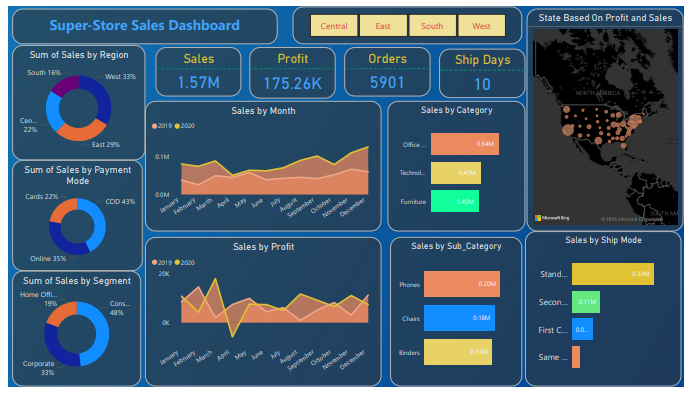

The dashboard page shown, as its layout file describes it:
{"tool":"powerbi","page":{"name":"Dashboard","canvas":[1280,720],"ordinal":0},"visuals":[{"type":"clusteredBarChart","title":"Sales by Category","fields":{"Category":["SuperStore_Sales_Dataset.Category"],"Y":["Sum(SuperStore_Sales_Dataset.Sales)"]},"box":[718.6,178.6,261.4,247.1],"z":0},{"type":"clusteredBarChart","title":"Sales by Sub_Category","fields":{"Category":["SuperStore_Sales_Dataset.Sub-Category"],"Y":["Sum(SuperStore_Sales_Dataset.Sales)"]},"box":[724.3,437.1,250,282.9],"z":1000},{"type":"clusteredBarChart","title":"Sales by Ship Mode","fields":{"Category":["SuperStore_Sales_Dataset.Ship Mode"],"Y":["Sum(SuperStore_Sales_Dataset.Sales)"]},"box":[980,425.7,295.7,294.3],"z":2000},{"type":"areaChart","title":"Sales by Month","fields":{"Y":["Sum(SuperStore_Sales_Dataset.Sales)"],"Category":["SuperStore_Sales_Dataset.Order Date.Variation.Date Hierarchy.Month"],"Series":["SuperStore_Sales_Dataset.Order Date.Variation.Date Hierarchy.Year"]},"box":[258.6,178.6,448.6,247.1],"z":3000},{"type":"donutChart","fields":{"Category":["SuperStore_Sales_Dataset.Segment"],"Y":["Sum(SuperStore_Sales_Dataset.Sales)"]},"box":[7.1,501.4,244.3,218.6],"z":4000},{"type":"donutChart","fields":{"Category":["SuperStore_Sales_Dataset.Region"],"Y":["Sum(SuperStore_Sales_Dataset.Sales)"]},"box":[7.1,72.9,251.4,218.6],"z":5000},{"type":"donutChart","fields":{"Category":["SuperStore_Sales_Dataset.Payment Mode","SuperStore_Sales_Dataset.Region"],"Y":["Sum(SuperStore_Sales_Dataset.Sales)"]},"box":[7.1,291.4,247.1,210],"z":6000},{"type":"areaChart","title":"Sales by Profit","fields":{"Category":["SuperStore_Sales_Dataset.Order Date.Variation.Date Hierarchy.Month"],"Series":["SuperStore_Sales_Dataset.Order Date.Variation.Date Hierarchy.Year"],"Y":["Sum(SuperStore_Sales_Dataset.Profit)"]},"box":[258.6,437.1,448.6,282.9],"z":7000},{"type":"slicer","fields":{"Values":["SuperStore_Sales_Dataset.Region"]},"box":[538.6,0,435.7,71.4],"z":8000},{"type":"card","title":"Sales","fields":{"Values":["Sum(SuperStore_Sales_Dataset.Sales)"]},"box":[278.6,77.1,162.9,92.9],"z":9000},{"type":"card","title":"Profit","fields":{"Values":["Sum(SuperStore_Sales_Dataset.Profit)"]},"box":[457.1,77.1,162.9,97.1],"z":10000},{"type":"card","title":"Orders","fields":{"Values":["CountNonNull(SuperStore_Sales_Dataset.Order ID)"]},"box":[637.1,77.1,162.9,92.9],"z":11000},{"type":"card","title":"Ship Days","fields":{"Values":["Avg(SuperStore_Sales_Dataset.Waiting Days)"]},"box":[817.1,80,162.9,92.9],"z":12000},{"type":"textbox","box":[7.1,4.3,502.9,67.1],"z":13000},{"type":"map","title":"State Based On Profit and Sales","fields":{"Category":["SuperStore_Sales_Dataset.State"],"Size":["Sum(SuperStore_Sales_Dataset.Sales)"]},"box":[982.9,4.3,297.1,421.4],"z":14000}]}

Visuals, with their boxes in screenshot pixels (x1, y1, x2, y2), scaled from the page's 1280x720 canvas onto the 695x393 screenshot:
"Sales by Category" clusteredBarChart: BBox(390, 97, 532, 232)
"Sales by Sub_Category" clusteredBarChart: BBox(393, 239, 529, 392)
"Sales by Ship Mode" clusteredBarChart: BBox(532, 232, 693, 392)
"Sales by Month" areaChart: BBox(140, 97, 384, 232)
donutChart - SuperStore_Sales_Dataset.Segment x Sum(SuperStore_Sales_Dataset.Sales): BBox(4, 274, 137, 392)
donutChart - SuperStore_Sales_Dataset.Region x Sum(SuperStore_Sales_Dataset.Sales): BBox(4, 40, 140, 159)
donutChart - SuperStore_Sales_Dataset.Payment Mode x SuperStore_Sales_Dataset.Region: BBox(4, 159, 138, 274)
"Sales by Profit" areaChart: BBox(140, 239, 384, 392)
slicer - SuperStore_Sales_Dataset.Region: BBox(292, 0, 529, 39)
"Sales" card: BBox(151, 42, 240, 93)
"Profit" card: BBox(248, 42, 337, 95)
"Orders" card: BBox(346, 42, 434, 93)
"Ship Days" card: BBox(444, 44, 532, 94)
textbox: BBox(4, 2, 277, 39)
"State Based On Profit and Sales" map: BBox(534, 2, 694, 232)
